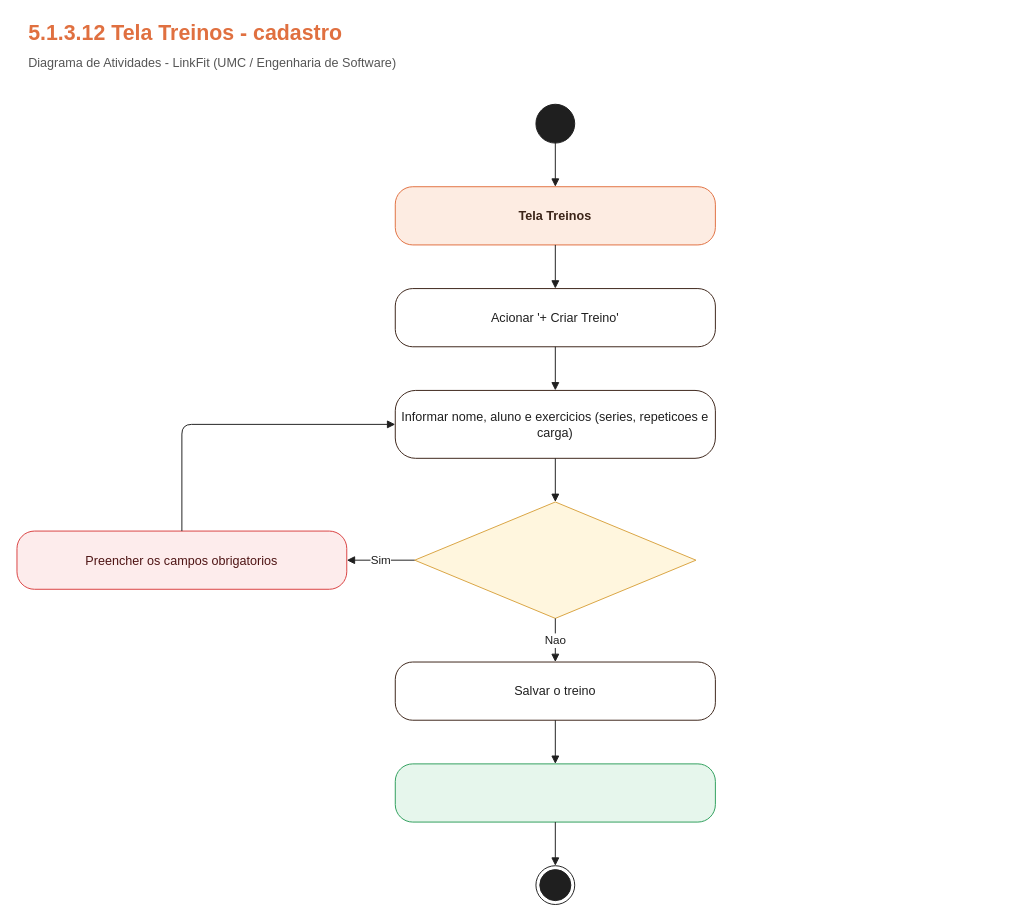
Image size: 1014x922. Some labels were removed from this diagram. Each missing label, with the box of its shape:
Nome ou exercicio em branco?: (414, 501, 696, 618)
Treino cadastrado: (394, 763, 715, 822)
